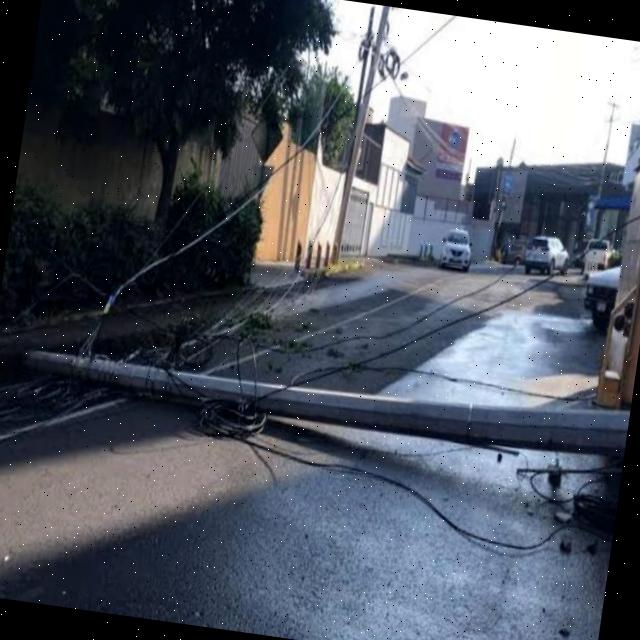Broken Pole: (19, 318, 629, 454)
